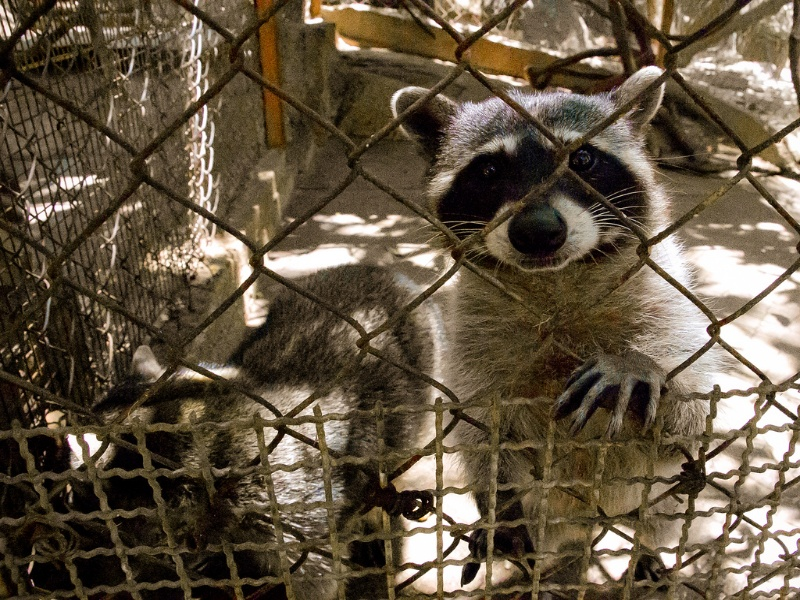raccoon: (394, 64, 722, 586)
